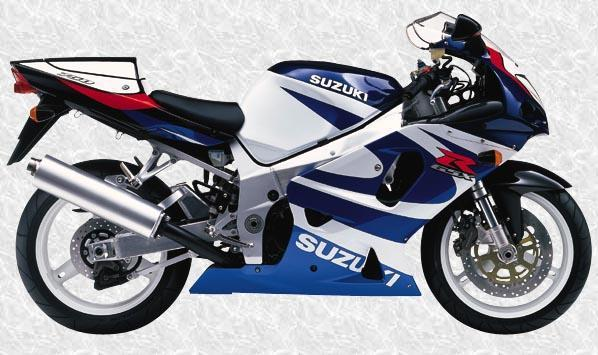Motorcycle: (1, 0, 597, 355)
